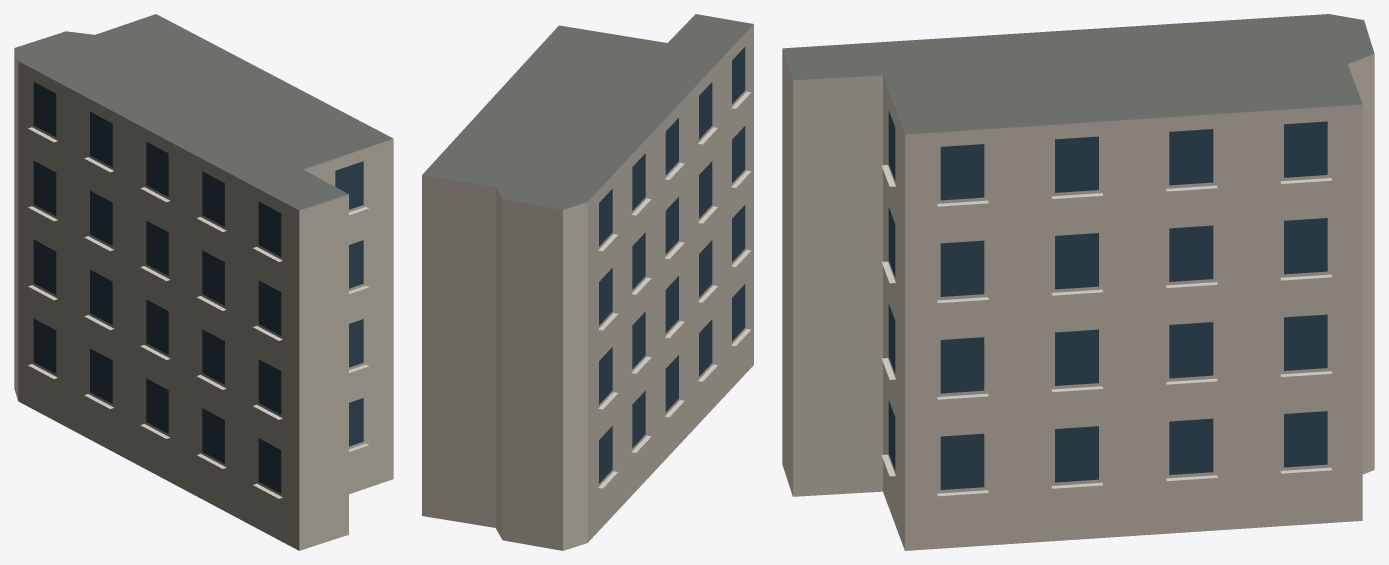
3 views of the same model, side by side, from view 1: azimuth 30°, elevation 25°; view 2: azimuth 150°, elevation 25°; view 3: azimuth 270°, elevation 25° (orthographic). The views are drawn at different scales.
Visible parts, largest first — view 1: Footprint 0, Inferred window bays, Window sills; view 2: Footprint 0, Inferred window bays, Window sills; view 3: Footprint 0, Inferred window bays, Window sills.
Boxes of the visible parts, left/top/right/bottom form: Footprint 0: left=14, top=14, right=393, bottom=550; Inferred window bays: left=33, top=82, right=363, bottom=493; Window sills: left=28, top=127, right=368, bottom=498; Footprint 0: left=422, top=14, right=753, bottom=550; Inferred window bays: left=599, top=47, right=745, bottom=483; Window sills: left=598, top=91, right=750, bottom=488; Footprint 0: left=782, top=14, right=1374, bottom=550; Inferred window bays: left=888, top=110, right=1327, bottom=489; Window sills: left=881, top=165, right=1331, bottom=496.
Bounding box in the file's own units: 8.18 × 12.83 × 16.53.
